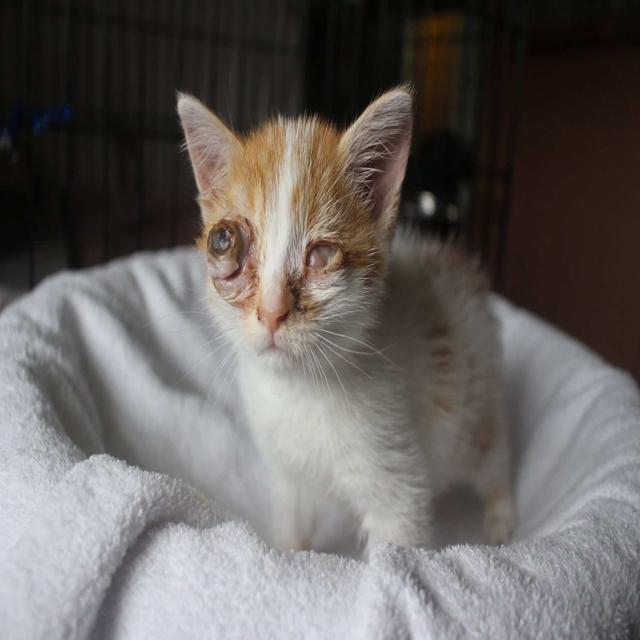eye_infection: (207, 227, 253, 272), (305, 240, 345, 280)
